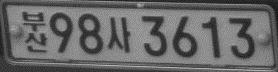1: (200, 16, 227, 58)
3: (228, 17, 255, 59), (141, 15, 167, 57)
6: (171, 14, 197, 58)
8: (77, 12, 103, 55)
9: (49, 11, 73, 54)
부산_V: (21, 10, 48, 54)
사: (107, 17, 132, 53)
